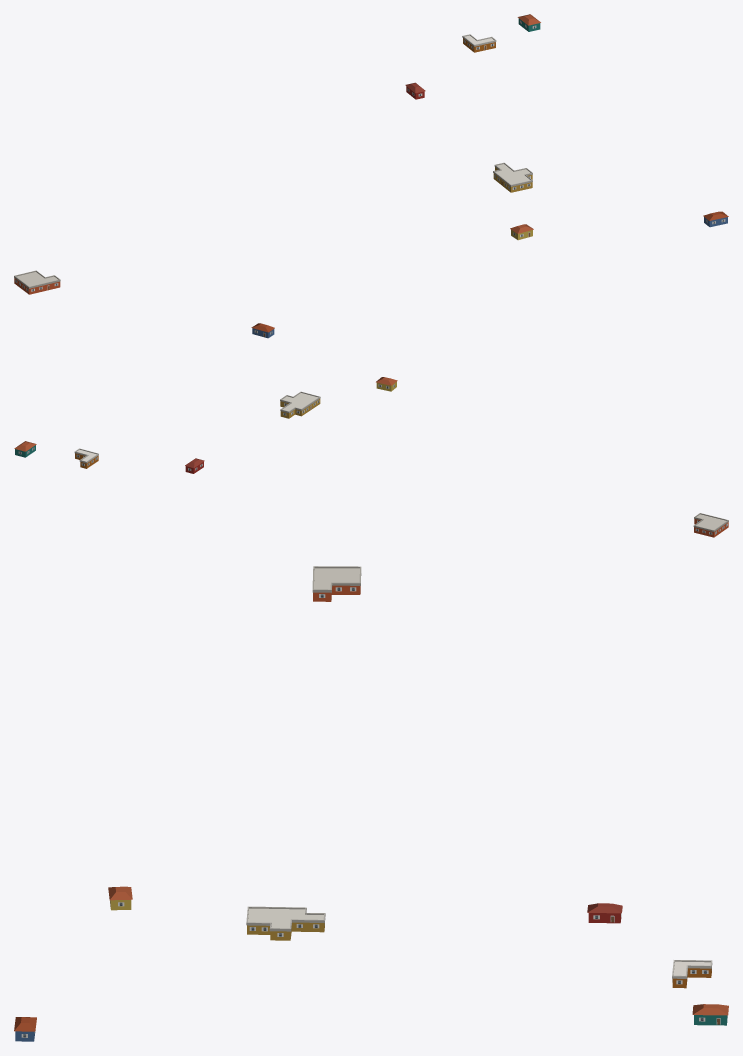
Rendered from msb_sannicolas_18_20.glb.
3 renders of one model, top to bottom at view 1: azimuth 30°, elevation 25°; view 2: azimuth 150°, elevation 25°; view 3: azimuth 270°, elevation 25°, orthographic. The views are drawn at different scales.
Visible parts, largest first — view 1: msb_sannicolas_18_20_lod0; view 2: msb_sannicolas_18_20_lod0; view 3: msb_sannicolas_18_20_lod0.
Boxes of the visible parts, x1,y1,x2,y2 form: msb_sannicolas_18_20_lod0: (14,14,728,294); msb_sannicolas_18_20_lod0: (14,323,728,537); msb_sannicolas_18_20_lod0: (14,566,728,1041).
Size of what is drawn, in the model's own units: 340 by 18.14 by 214.
Materials: 3 (1 with a texture image).
